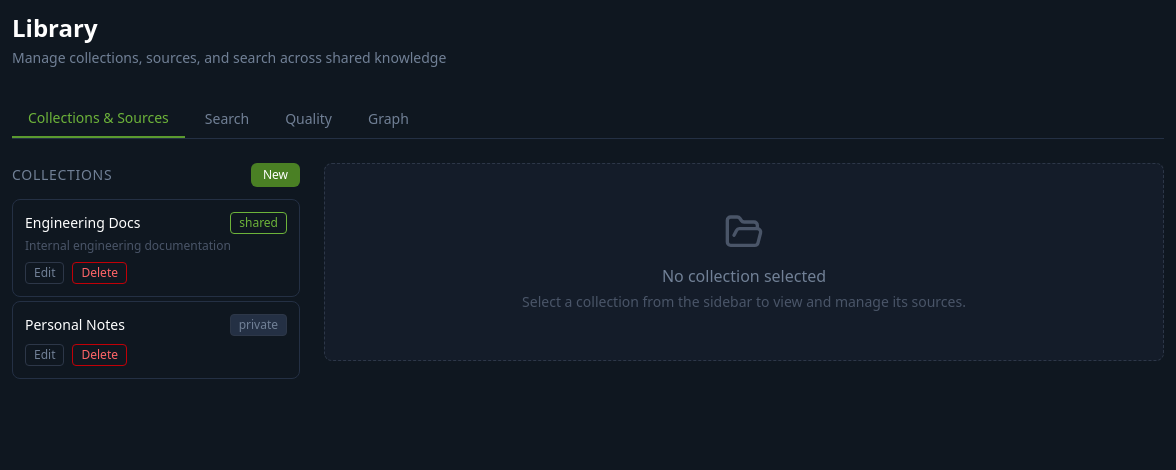
Scenario: SharedKnowledgeClient › fetches and displays sources when collection clicked
Step 1. Click the text "Engineering Docs" → (83, 223), box [25, 213, 140, 233]
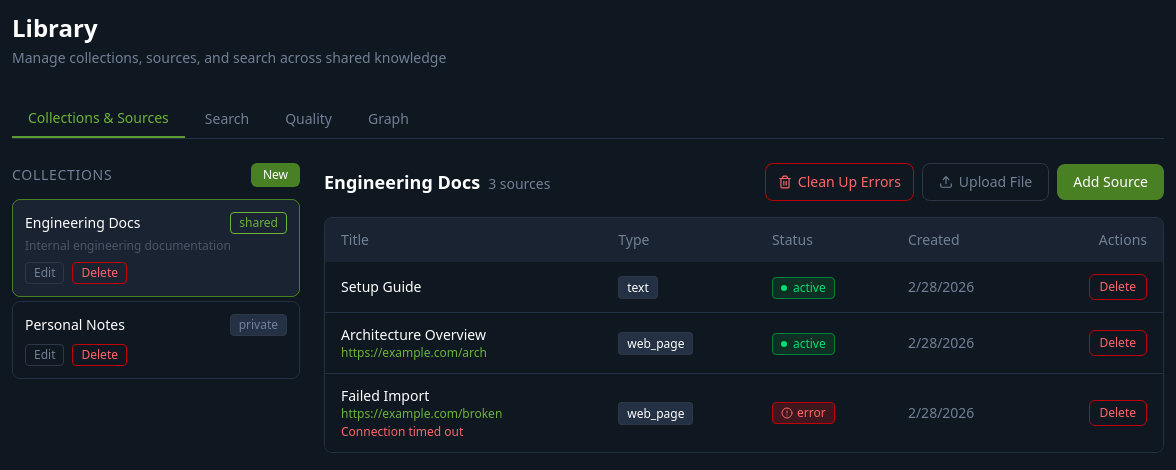
Now the text "Setup Guide" is shown, box [341, 277, 422, 296]
Now the text "Architecture Overview" is shown, box [341, 325, 486, 344]
